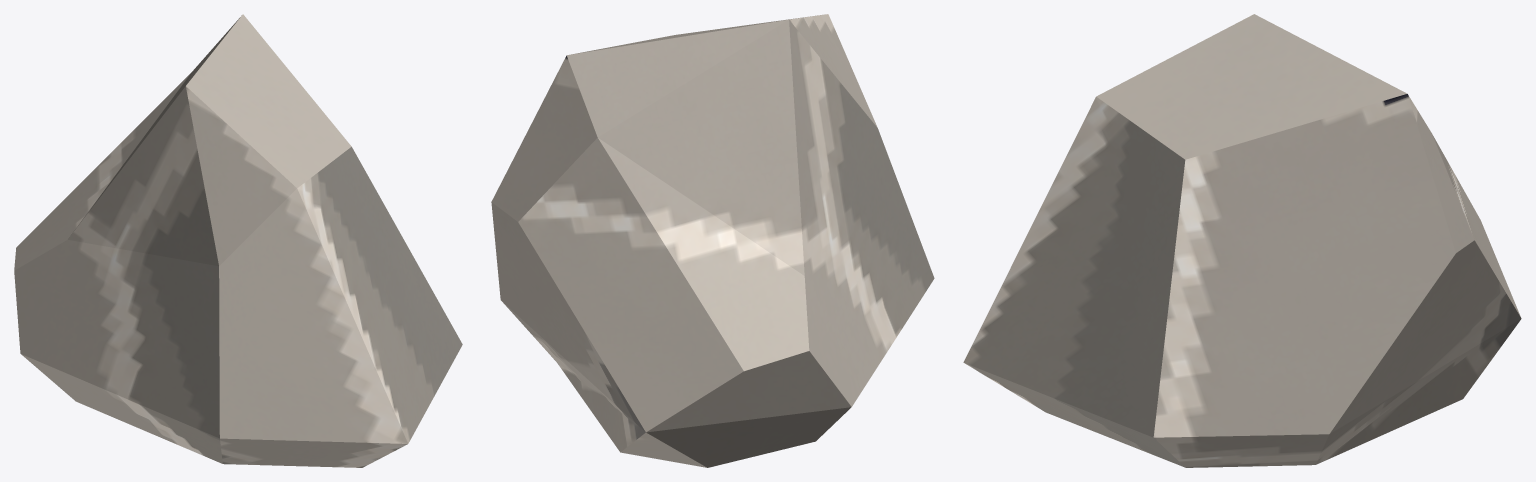
Rendered from Forest_Rock_3.fbx.
3 renders of one model, left to right at view 1: azimuth 30°, elevation 25°; view 2: azimuth 150°, elevation 25°; view 3: azimuth 270°, elevation 25°, orthographic. The views are drawn at different scales.
Parts seen in each view (by area): view 1: Cube.013; view 2: Cube.013; view 3: Cube.013.
Boxes of the visible parts, <box> form: Cube.013: <box>14,14,462,467</box>; Cube.013: <box>491,14,934,467</box>; Cube.013: <box>963,14,1521,467</box>.
Size of the model in its own units: 99.64 by 92.28 by 131.
